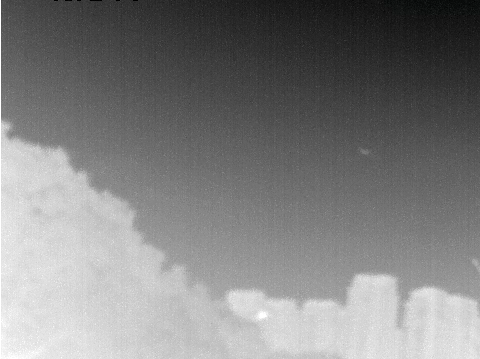dim target: (359, 146, 370, 156)
